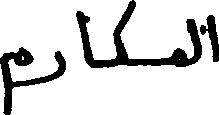X: (0, 42, 30, 114), (113, 0, 135, 71), (32, 46, 64, 89), (76, 6, 93, 72), (175, 14, 187, 71), (189, 14, 201, 69), (208, 10, 218, 66)
